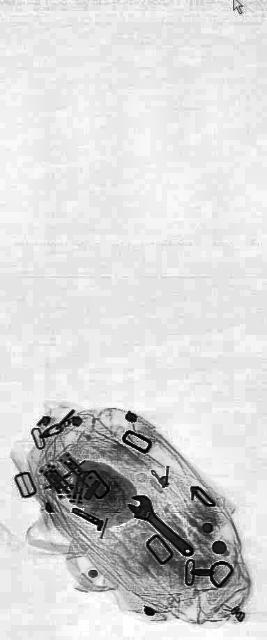Wrench: (128, 481, 194, 567)
